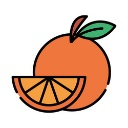orange: (31, 25, 111, 76), (10, 73, 86, 113)
